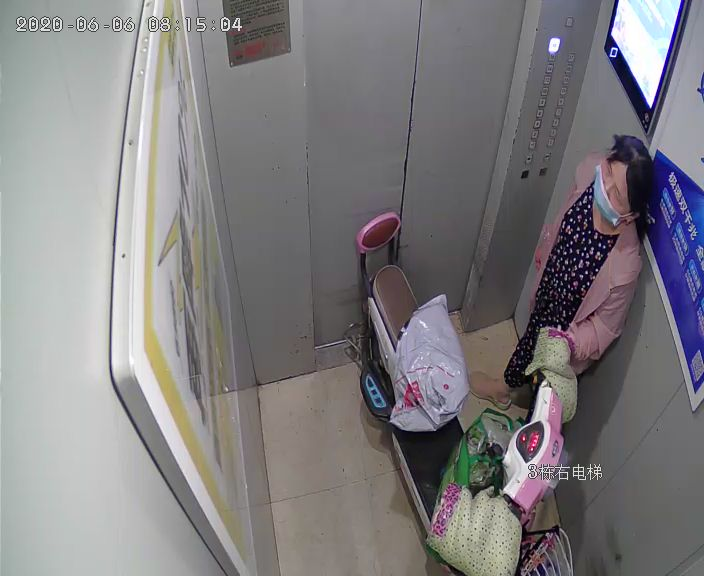Electric-bicycle: (355, 213, 575, 576)
